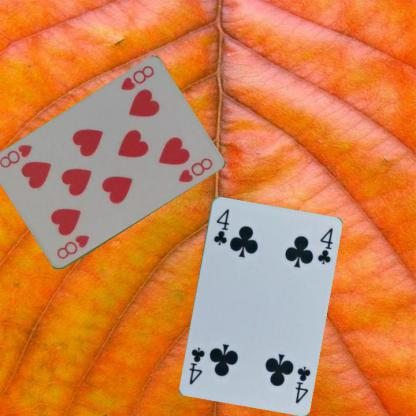4c: (292, 363, 312, 404), (211, 206, 230, 246)
8h: (118, 63, 156, 92), (53, 232, 90, 261)
